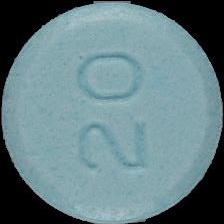0378-0183: (0, 0, 224, 224)
